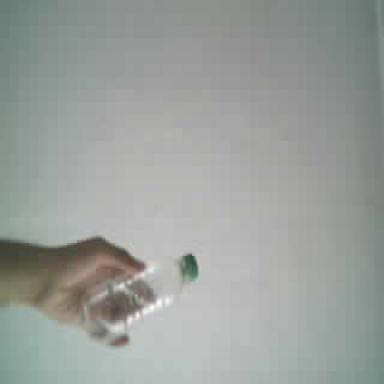bottle: (85, 254, 198, 339)
